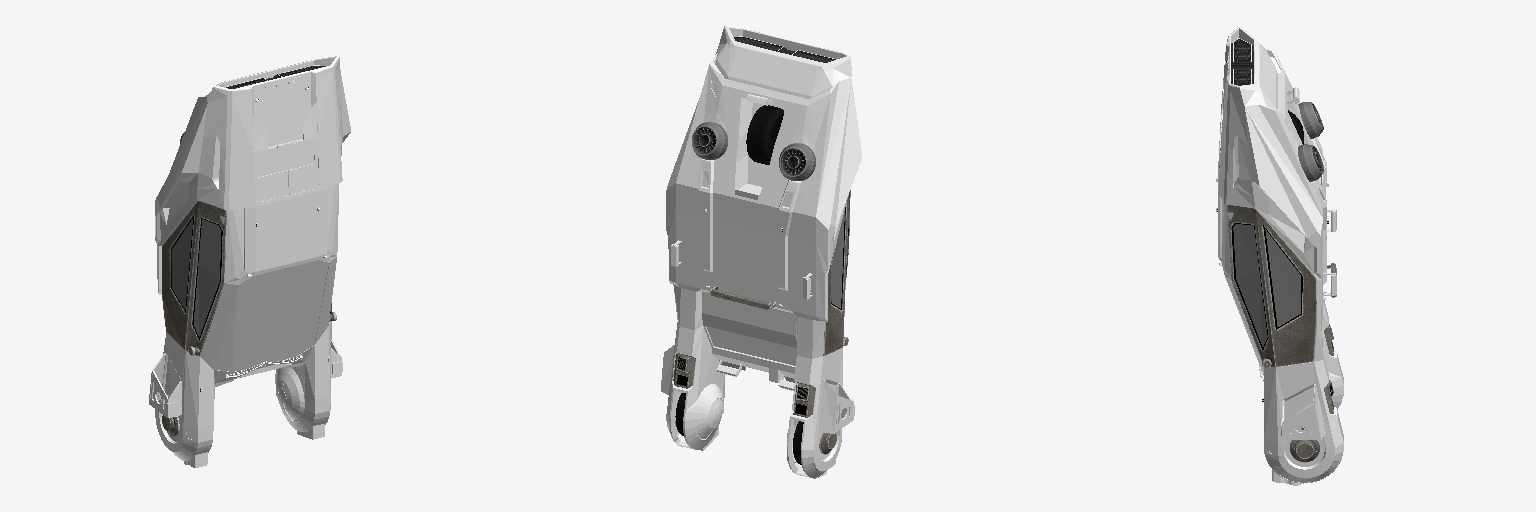
The picture shows the model from 3 angles: view 1: azimuth 30°, elevation 25°; view 2: azimuth 150°, elevation 25°; view 3: azimuth 270°, elevation 25°; orthographic projection.
Visible parts, largest first — view 1: 3DGeom~1, 3DGeom~5, 3DGeom~19, 3DGeom~21, wheelcocer_01; view 2: 3DGeom~1, rearwheel, 3DGeom~5, 3DGeom~19, wheelcocer_01, ReaThruster_01, ReaThruster, 3DGeom~21, frontthruster, frontthruster_01, 3DGeom~13; view 3: 3DGeom~1, 3DGeom~6, 3DGeom~8, wheelcocer, 3DGeom~13, ReaThruster, ReaThruster_01, hub.
Boxes of the visible parts, <box> form: 3DGeom~1: <box>155,56,350,467</box>; 3DGeom~5: <box>214,260,328,371</box>; 3DGeom~19: <box>162,201,226,356</box>; 3DGeom~21: <box>171,216,222,340</box>; wheelcocer_01: <box>149,353,181,417</box>; 3DGeom~1: <box>666,26,862,478</box>; rearwheel: <box>746,105,783,164</box>; 3DGeom~5: <box>707,328,796,365</box>; 3DGeom~19: <box>823,190,850,355</box>; wheelcocer_01: <box>818,378,854,433</box>; ReaThruster_01: <box>779,143,815,180</box>; ReaThruster: <box>692,122,727,159</box>; 3DGeom~21: <box>831,207,848,309</box>; frontthruster: <box>673,353,695,388</box>; frontthruster_01: <box>793,382,815,417</box>; 3DGeom~13: <box>734,37,835,62</box>; 3DGeom~1: <box>1218,26,1343,485</box>; 3DGeom~6: <box>1227,205,1316,367</box>; 3DGeom~8: <box>1232,223,1302,349</box>; wheelcocer: <box>1281,384,1325,439</box>; 3DGeom~13: <box>1231,39,1253,85</box>; ReaThruster: <box>1298,144,1323,181</box>; ReaThruster_01: <box>1298,102,1323,138</box>; hub: <box>1290,426,1319,462</box>.
Bounding box in the file's own units: 0.4134 × 0.9002 × 0.2612.
Materials: 29 (10 with a texture image).